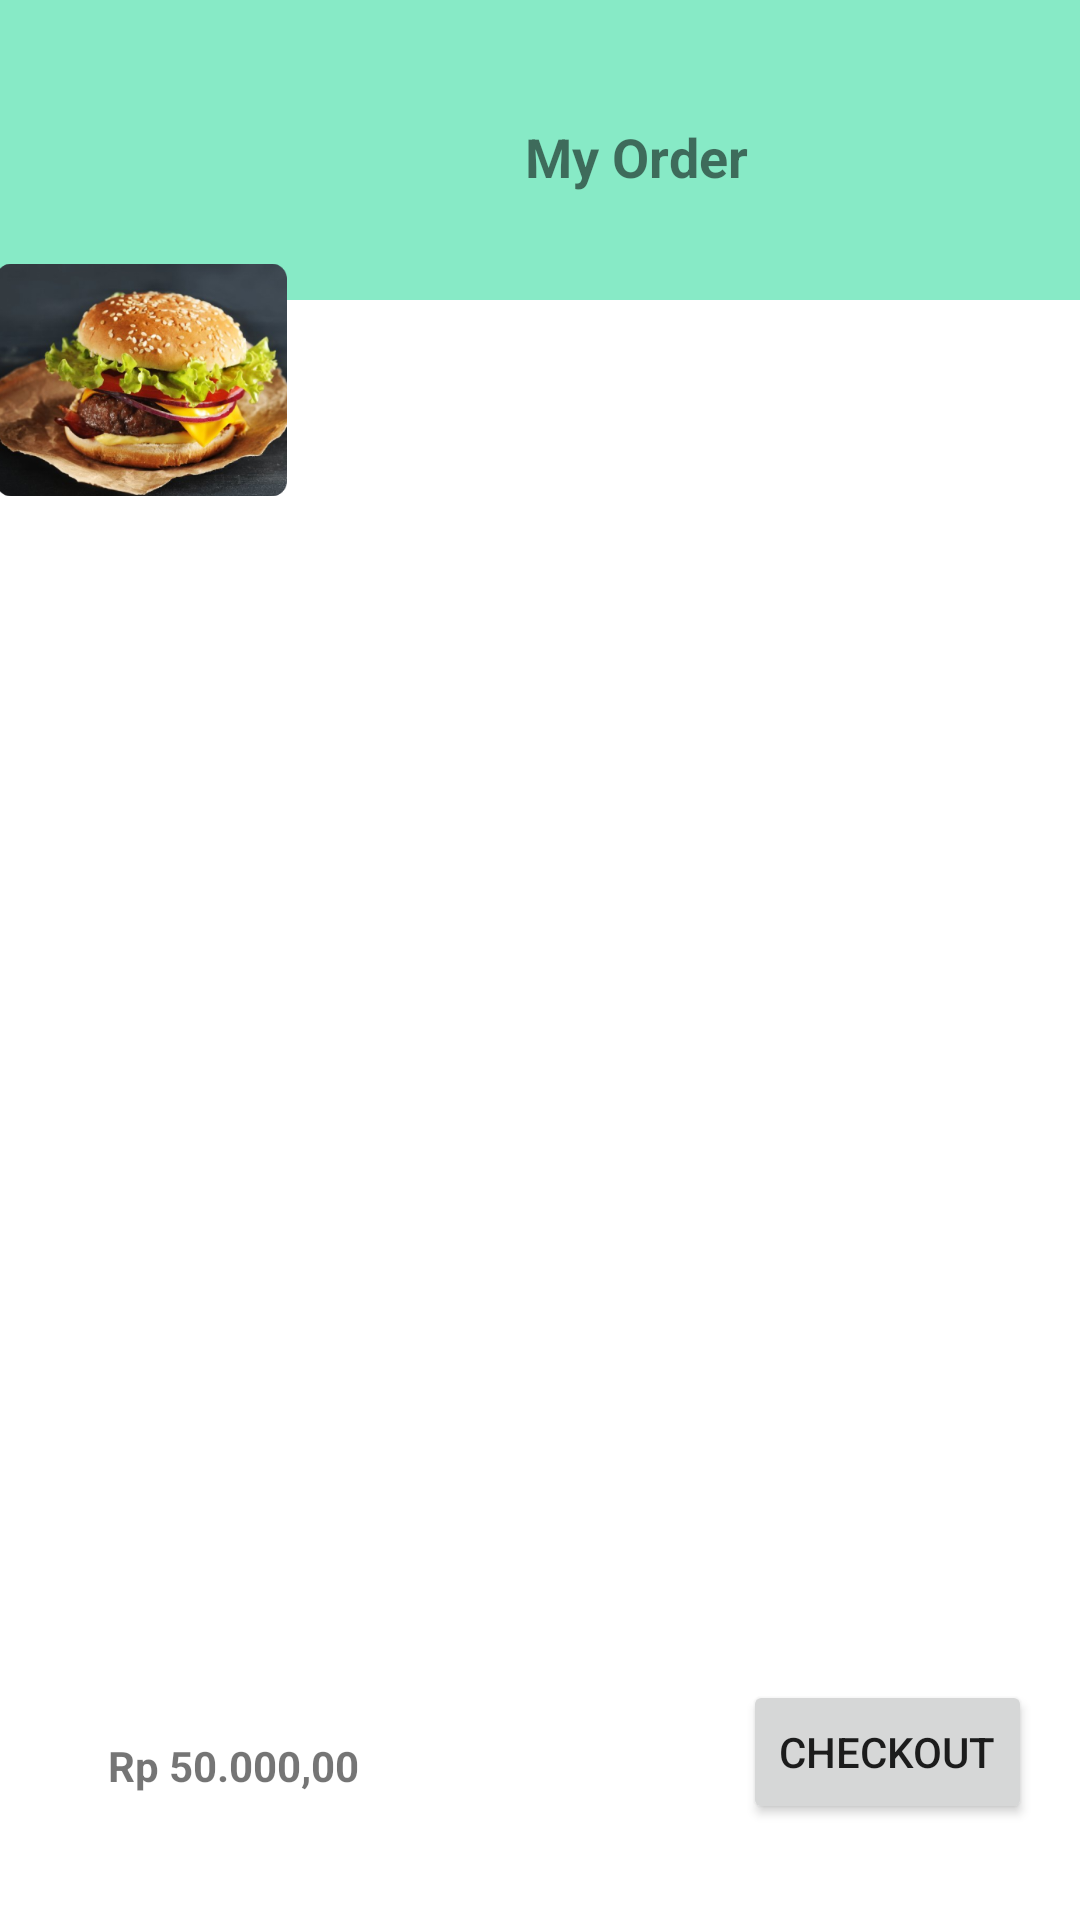

Named icons in this screenshot (1080×1920) and their centers, (x,y):
burger: (143,380)
